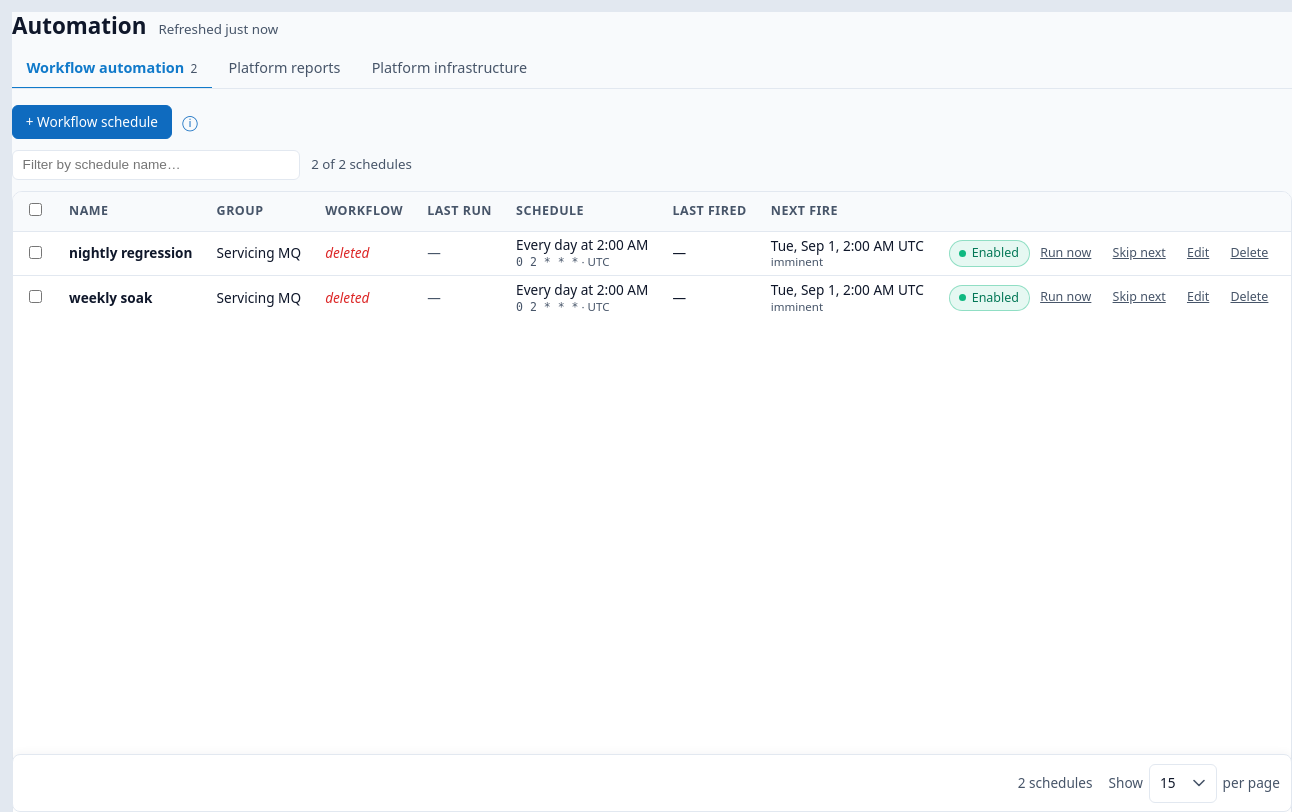
Test: AutomationPage — three sections, group-scoped › filters the visible schedules by name and says so when nothing matches
Expected: the text "nightly regression" is shown, [69, 243, 192, 262]
Expected: the text "2 of 2 schedules" is shown, [311, 155, 412, 175]
Type "soak" into the search field named "Filter schedules by name".
click(156, 165); type("soak")  # box [12, 150, 300, 180]
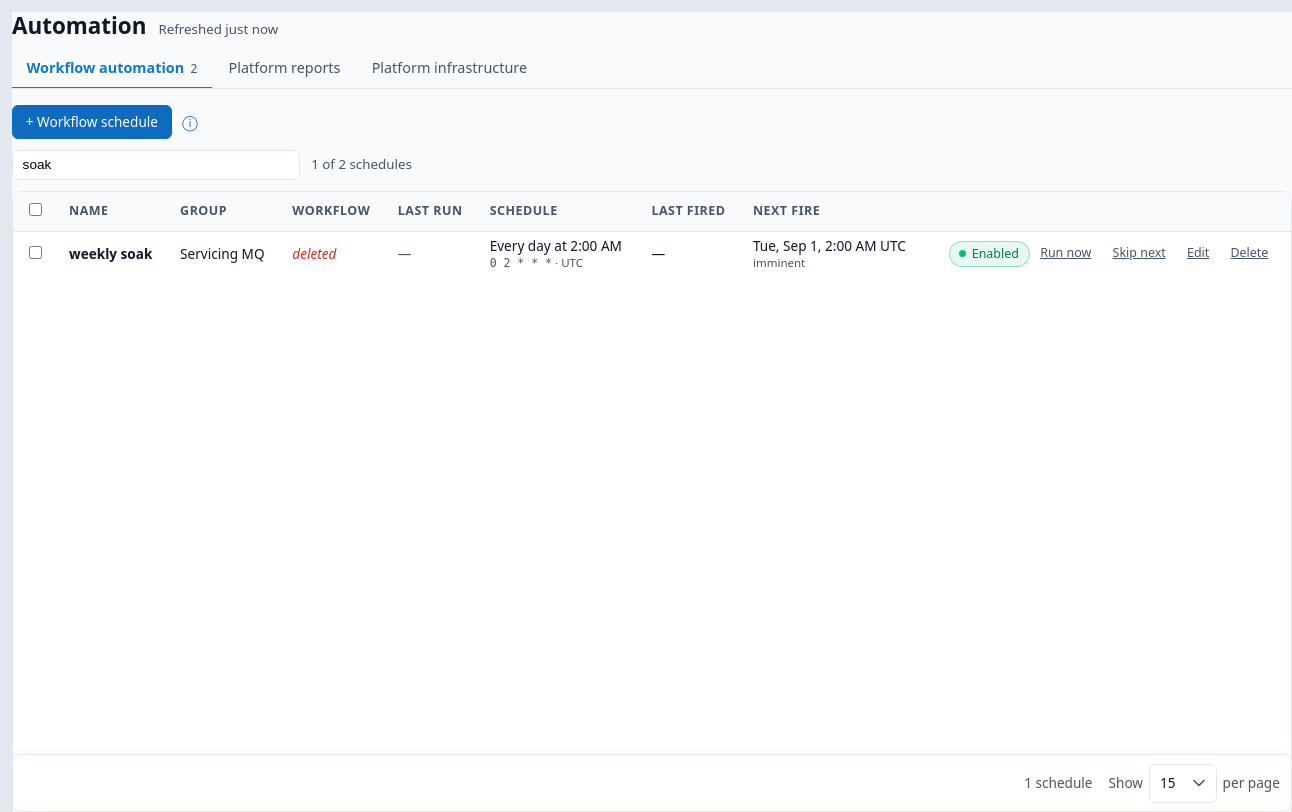
Expected: the text "weekly soak" is shown, [69, 244, 152, 263]
Expected: the text "nightly regression" is gone
Expected: the text "1 of 2 schedules" is shown, [311, 155, 412, 175]
Replace the text in the search field named "Filter schedules by name" with "zzz" at {"x": 156, "y": 165}, box [12, 150, 300, 180]
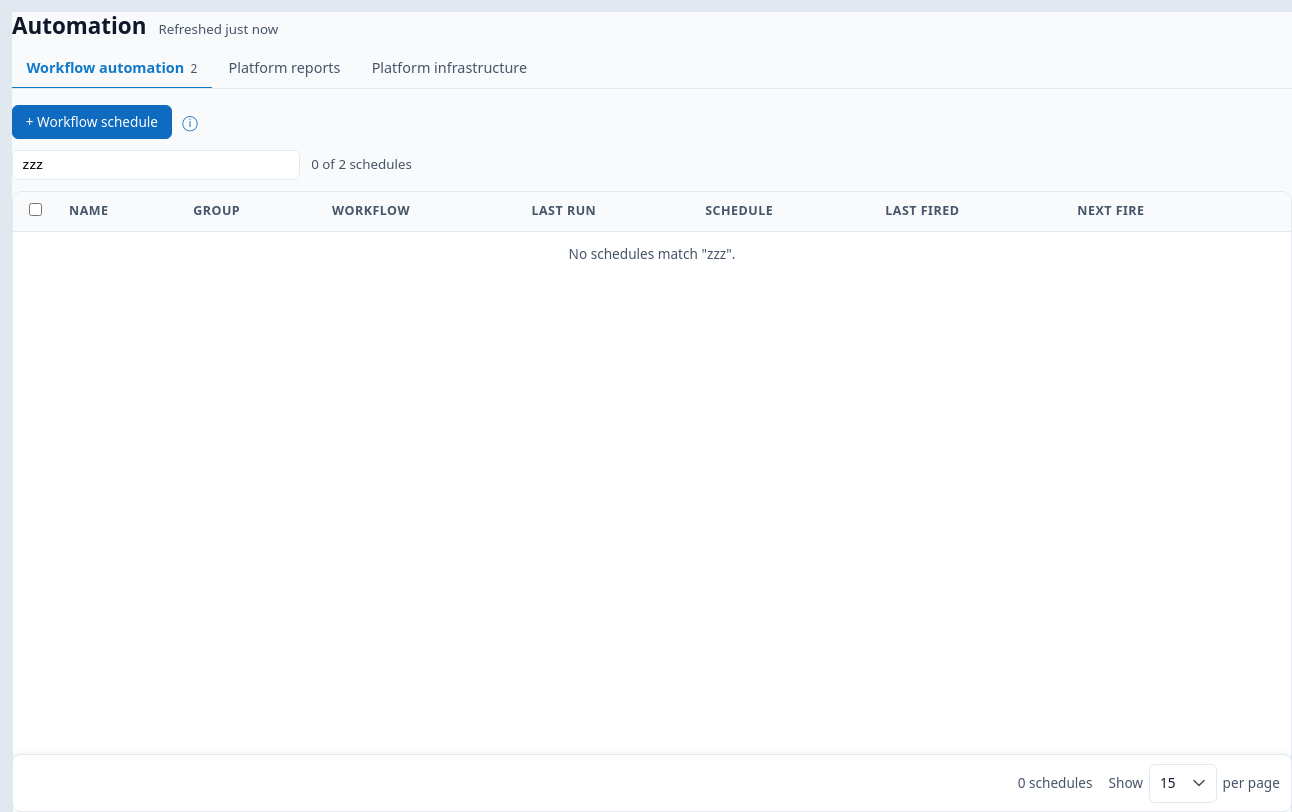
Expected: the text "No schedules match \"zzz\"." is shown, [13, 232, 1291, 276]
